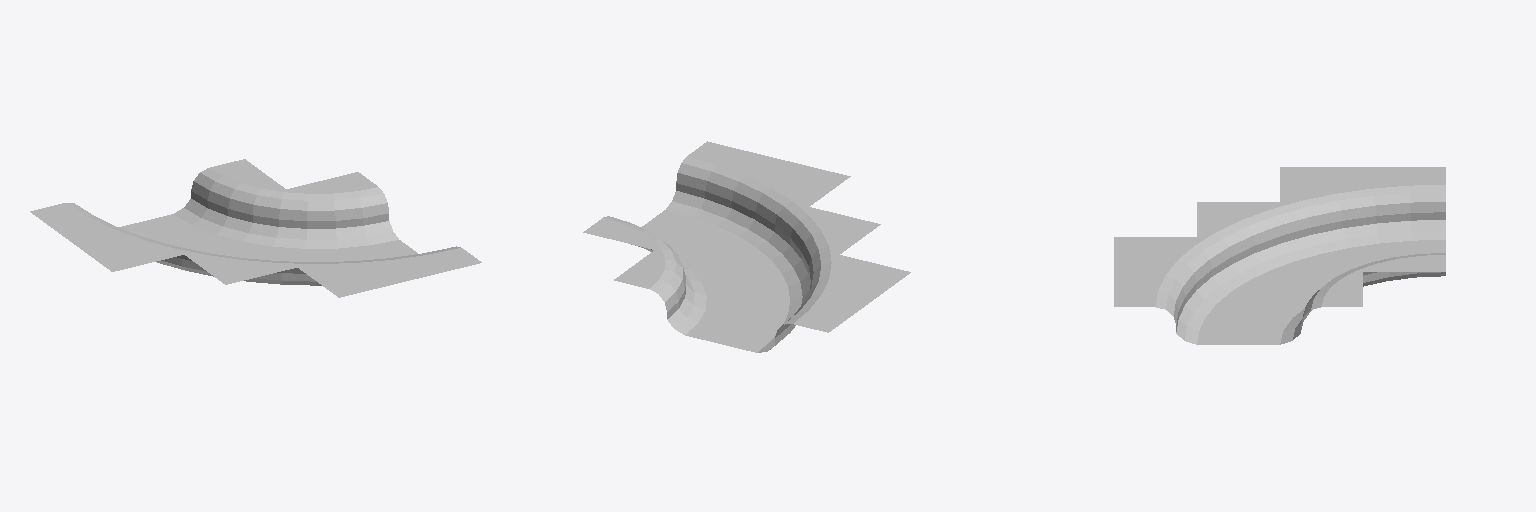
Rendered from Track_Standard_Curve_Single_4x4.obj.
The picture shows the model from 3 angles: view 1: azimuth 30°, elevation 25°; view 2: azimuth 150°, elevation 25°; view 3: azimuth 270°, elevation 25°; orthographic projection.
Visible parts, largest first — view 1: Grass, Dirt; view 2: Grass, Dirt; view 3: Grass, Dirt.
Boxes of the visible parts, x1=… form: Grass: x1=30, y1=159, x2=481, y2=297; Dirt: x1=119, y1=199, x2=417, y2=285; Grass: x1=583, y1=141, x2=910, y2=345; Dirt: x1=631, y1=191, x2=809, y2=352; Grass: x1=1114, y1=167, x2=1445, y2=331; Dirt: x1=1176, y1=220, x2=1445, y2=344.
Bounding box in the file's own units: 4 × 0.5 × 4.